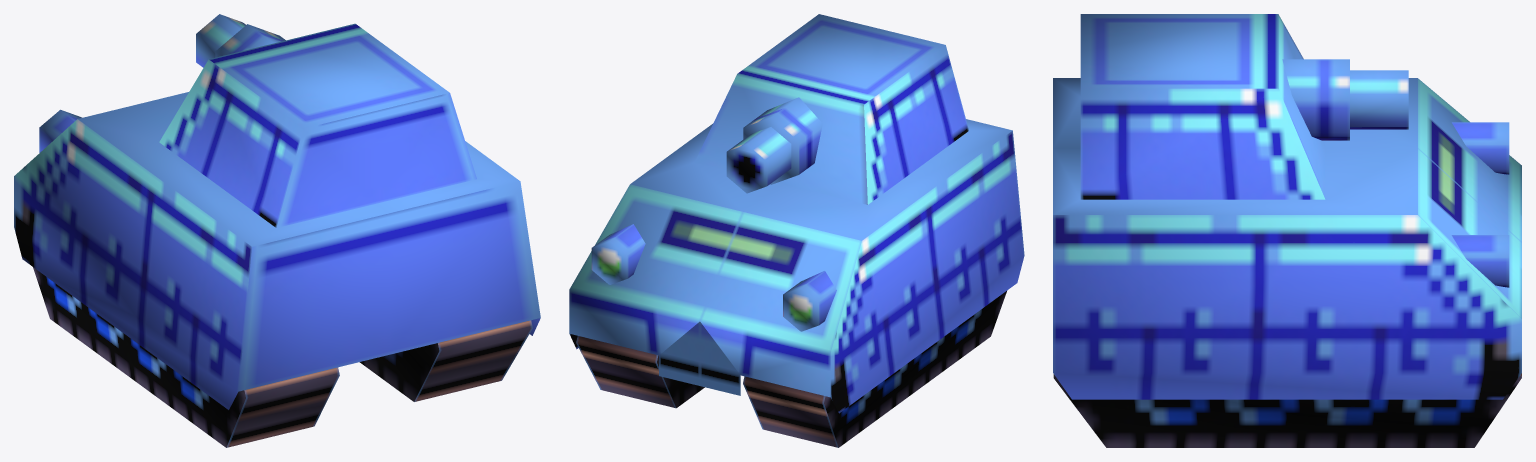
Rendered from tank.obj.
3 views of the same model, side by side, from view 1: azimuth 30°, elevation 25°; view 2: azimuth 150°, elevation 25°; view 3: azimuth 270°, elevation 25° (orthographic). The views are drawn at different scales.
Bounding box in the file's own units: 0.0112 × 0.011 × 0.0143.
